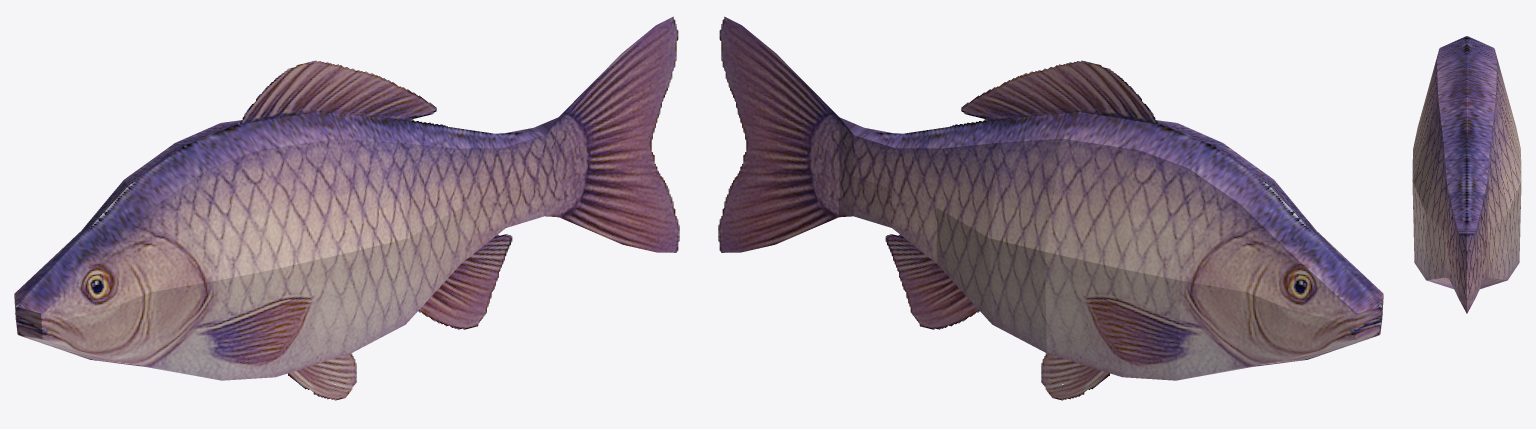
Rendered from Prismdrake.fbx.
3 views of the same model, side by side, from view 1: azimuth 30°, elevation 25°; view 2: azimuth 150°, elevation 25°; view 3: azimuth 270°, elevation 25° (orthographic). The views are drawn at different scales.
Visible parts, largest first — view 1: Carp; view 2: Carp; view 3: Carp.
Boxes of the visible parts, bbox=[...] form: Carp: bbox=[14, 16, 679, 400]; Carp: bbox=[718, 16, 1383, 400]; Carp: bbox=[1412, 36, 1521, 313].
Bounding box in the file's own units: 164 × 86.16 × 28.79.
Materials: 1 (1 with a texture image).
